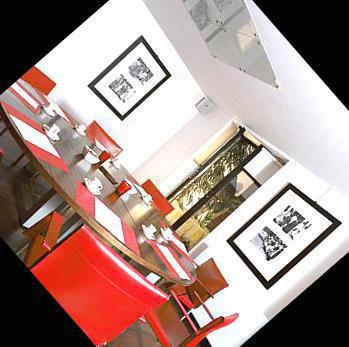Puerta: (155, 128, 281, 248)
